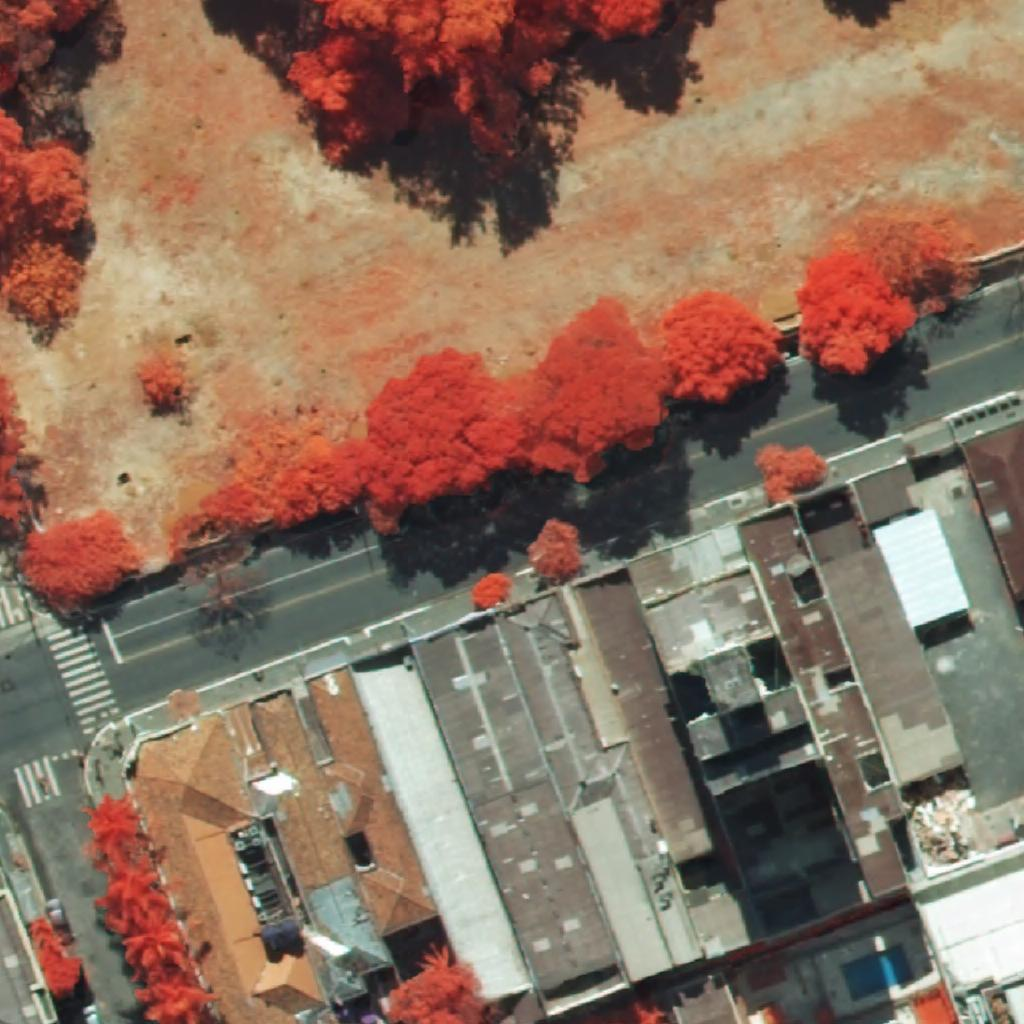pool: (842, 945, 913, 1001)
